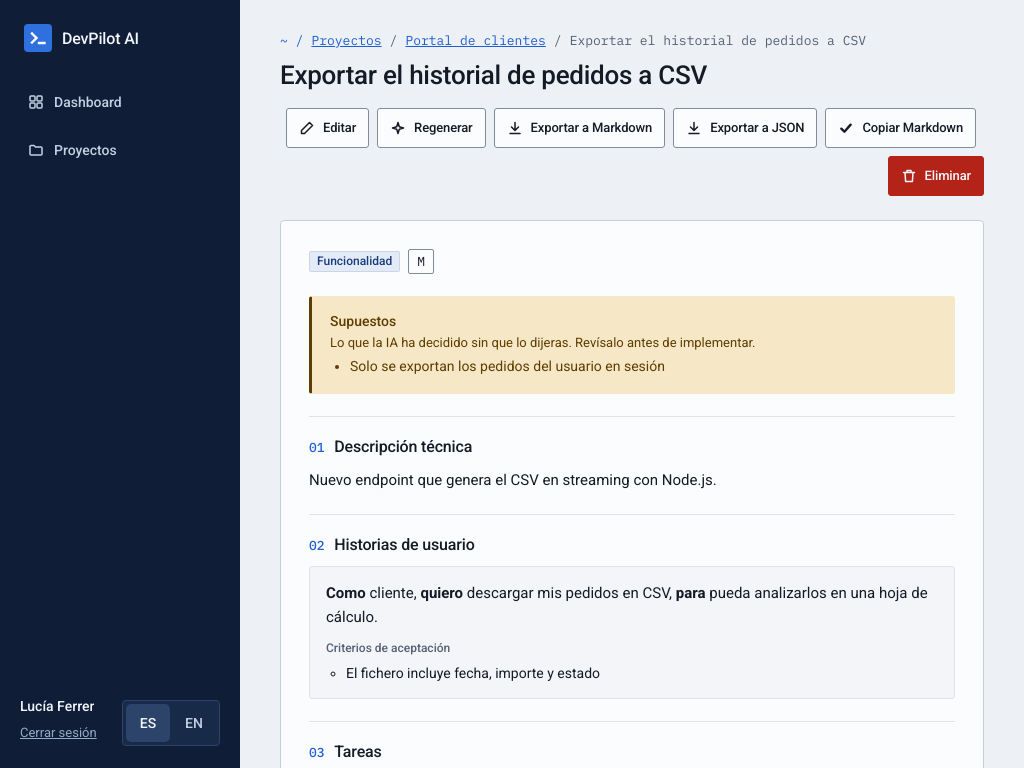
Scenario: exporting a generation › copies the Markdown and confirms it
Step 1. Click the button "Copiar Markdown" → (901, 128), box x1=825 y1=108 x2=976 y2=148
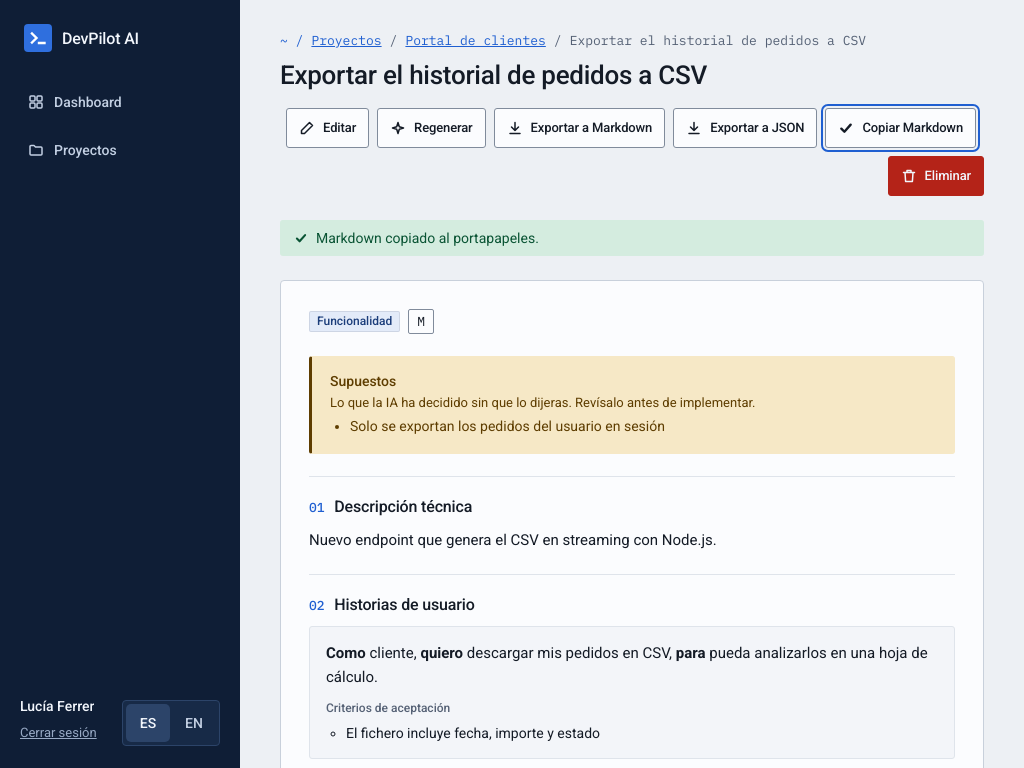
Expected: the message reads "Markdown copiado al portapapeles.", x1=316 y1=230 x2=539 y2=246
